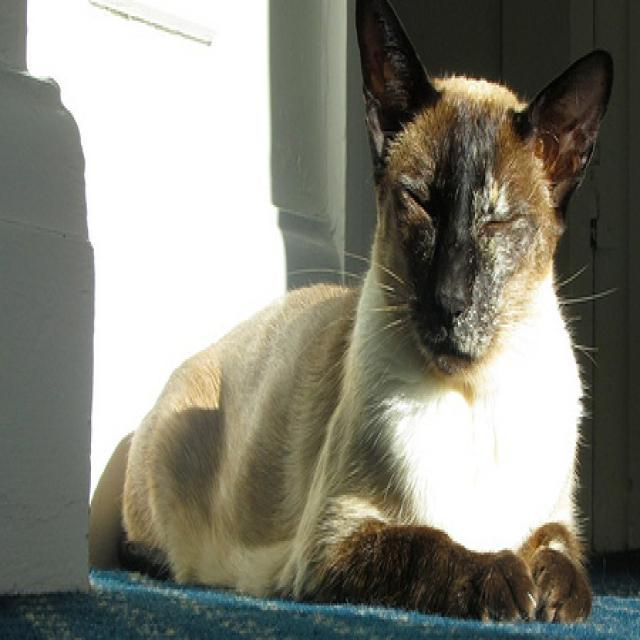Siamese: (82, 0, 618, 633)
